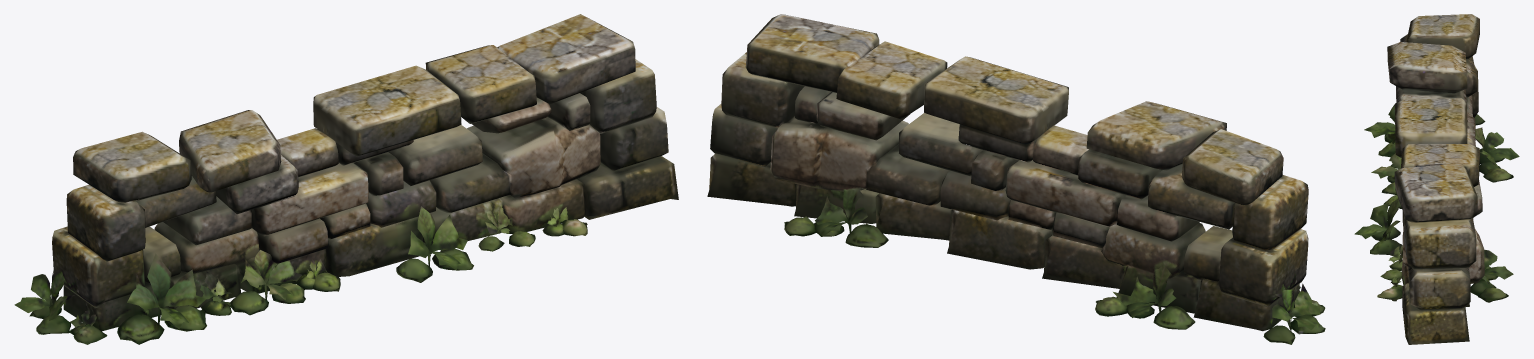
Rendered from act1_kit_v1_drystone_wall.glb.
3 renders of one model, left to right at view 1: azimuth 30°, elevation 25°; view 2: azimuth 150°, elevation 25°; view 3: azimuth 270°, elevation 25°, orthographic. The views are drawn at different scales.
Parts seen in each view (by area): view 1: act1_kit_v1_drystone_wall; view 2: act1_kit_v1_drystone_wall; view 3: act1_kit_v1_drystone_wall.
Part boxes in pixels (x1,y1,x2,y2): act1_kit_v1_drystone_wall: (14, 14, 678, 344); act1_kit_v1_drystone_wall: (707, 14, 1325, 344); act1_kit_v1_drystone_wall: (1354, 14, 1519, 344).
Size of the model in its own units: 1 by 0.261 by 0.2986.
Materials: 1 (1 with a texture image).
